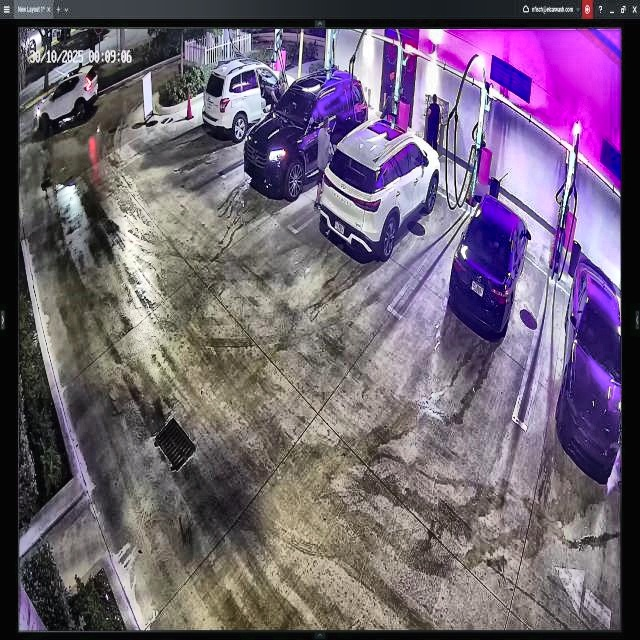Car: (322, 119, 443, 264), (244, 71, 368, 191), (449, 196, 534, 344)
